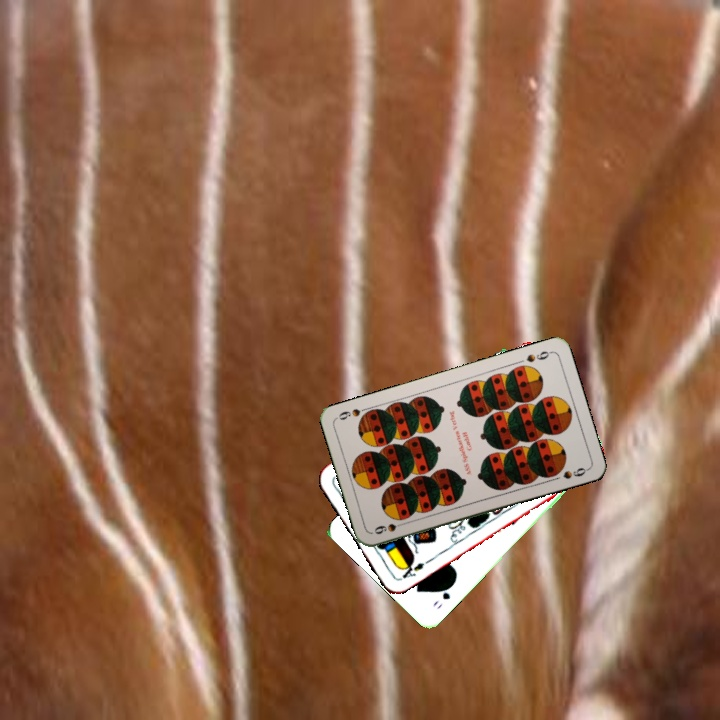EA: (395, 557, 427, 583)
GO: (428, 579, 457, 612)
S9: (370, 518, 410, 537), (522, 347, 554, 365)
